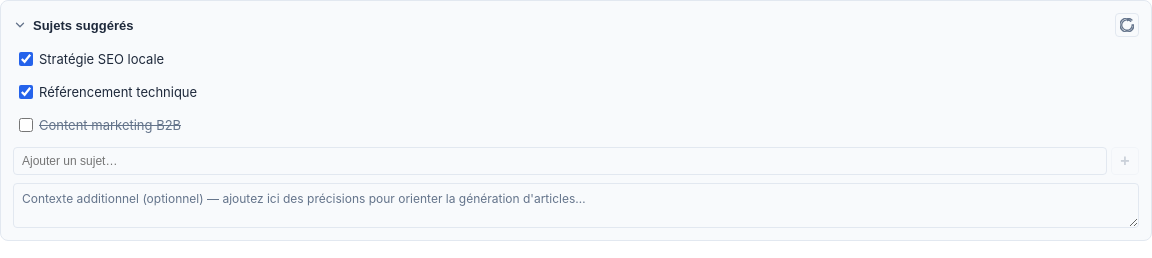
Scenario: TopicSuggestions › shows badge with checked count when collapsed
The width and height of the screenshot is (1152, 258).
Click the button with class "topic-header" at (83, 25), box [13,13,1139,37]
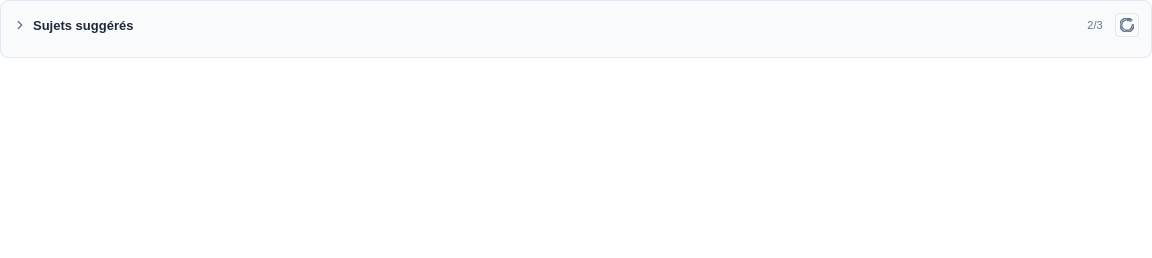
Now the text "2/3" is shown, box [1081,17,1109,33]
Now the text with class "topic-badge" reads "2/3", box [1087,19,1103,31]
